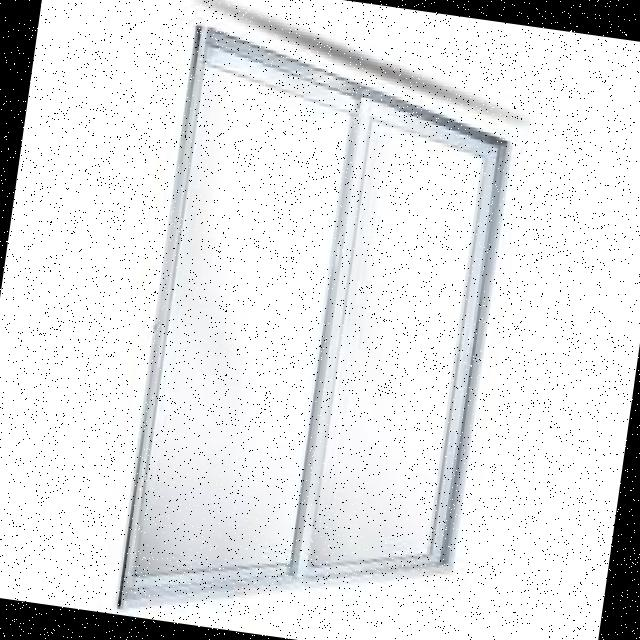Window: (88, 13, 549, 640)
